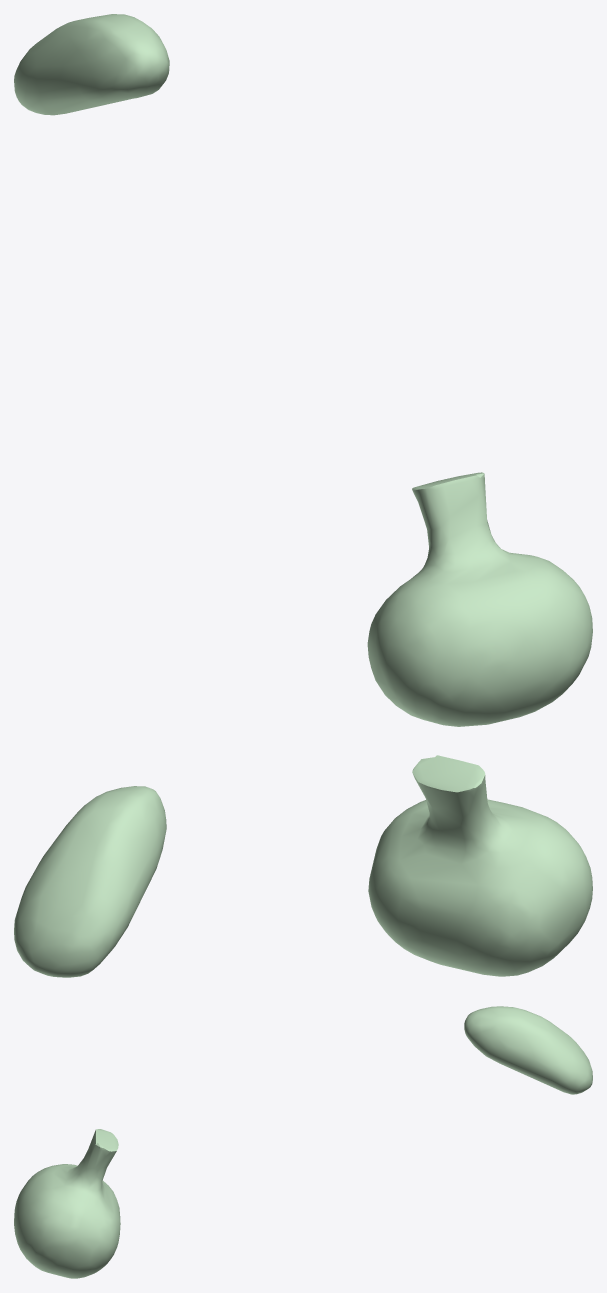
File: endocrine-tete.hi.glb
3 views of the same model, one above another, from view 1: azimuth 30°, elevation 25°; view 2: azimuth 150°, elevation 25°; view 3: azimuth 270°, elevation 25° (orthographic). The views are drawn at different scales.
Visible parts, largest first — view 1: FJ1796, FJ1795; view 2: FJ1796, FJ1795; view 3: FJ1796, FJ1795.
Part boxes in pixels (box(x1,y1,x2,y2)): FJ1796: box(367, 472, 592, 726); FJ1795: box(14, 14, 169, 115); FJ1796: box(368, 755, 592, 976); FJ1795: box(14, 786, 166, 977); FJ1796: box(14, 1129, 120, 1278); FJ1795: box(464, 1006, 592, 1094).
Bounding box in the file's own units: 0.0123 × 0.0253 × 0.0514.
